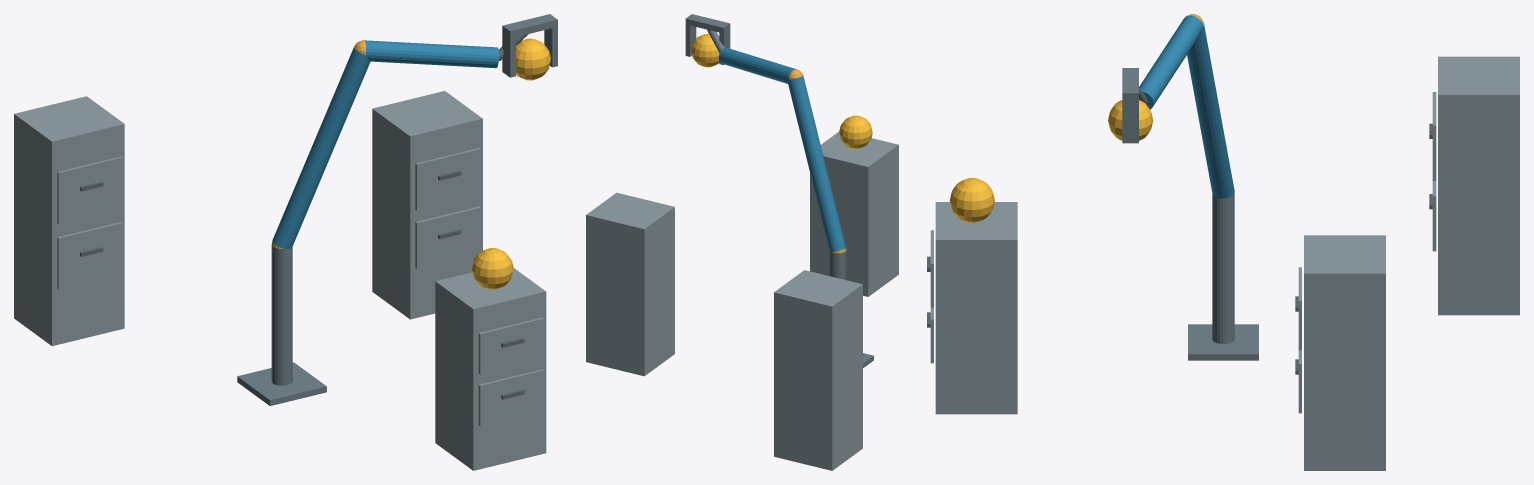
The picture shows the model from 3 angles, left to right: view 1: azimuth 30°, elevation 25°; view 2: azimuth 150°, elevation 25°; view 3: azimuth 270°, elevation 25°; orthographic projection. The views are drawn at different scales.
Parts seen in each view (by area): view 1: cabinet_3 body, cabinet_2 body, cabinet_1 body, moving link 1, cabinet_3 drawer front, cabinet_3 drawer front.001, cabinet_2 drawer front.001, cabinet_2 drawer front, fixed post, moving link 2, cabinet_1 drawer front.001, cabinet_1 drawer front (+4 smaller); view 2: cabinet_3 body, cabinet_2 body, cabinet_1 body, moving link 1, moving link 2, released ball_1, ball ball_2, gripper bridge, fixed post; view 3: cabinet_3 body, cabinet_2 body, cabinet_1 body, moving link 1, fixed post, pedestal, moving link 2, released ball_1, ball ball_2, gripper finger 1.
Part boxes in pixels (<box>): cabinet_3 body: <box>14,96,124,346</box>; cabinet_2 body: <box>372,91,482,319</box>; cabinet_1 body: <box>435,268,546,470</box>; moving link 1: <box>272,47,370,249</box>; cabinet_3 drawer front: <box>57,222,122,289</box>; cabinet_3 drawer front.001: <box>57,156,122,223</box>; cabinet_2 drawer front.001: <box>415,148,480,210</box>; cabinet_2 drawer front: <box>415,206,480,268</box>; fixed post: <box>271,245,292,385</box>; moving link 2: <box>364,40,499,68</box>; cabinet_1 drawer front.001: <box>478,317,544,374</box>; cabinet_1 drawer front: <box>478,369,544,426</box>; cabinet_3 body: <box>774,270,862,470</box>; cabinet_2 body: <box>586,192,674,376</box>; cabinet_1 body: <box>810,131,898,296</box>; moving link 1: <box>788,75,845,252</box>; moving link 2: <box>719,47,795,83</box>; released ball_1: <box>839,115,872,148</box>; ball ball_2: <box>691,33,719,67</box>; gripper bridge: <box>685,14,730,33</box>; fixed post: <box>829,251,846,279</box>; cabinet_3 body: <box>1438,56,1519,315</box>; cabinet_2 body: <box>1304,235,1385,470</box>; cabinet_1 body: <box>935,202,1017,414</box>; moving link 1: <box>1187,24,1234,198</box>; fixed post: <box>1212,193,1234,343</box>; pedestal: <box>1188,324,1258,360</box>; moving link 2: <box>1139,15,1203,109</box>; released ball_1: <box>949,178,994,222</box>; ball ball_2: <box>1108,100,1153,140</box>; gripper finger 1: <box>1122,101,1138,143</box>.
Size of the model in its own units: 1.62 by 1.46 by 2.1.
